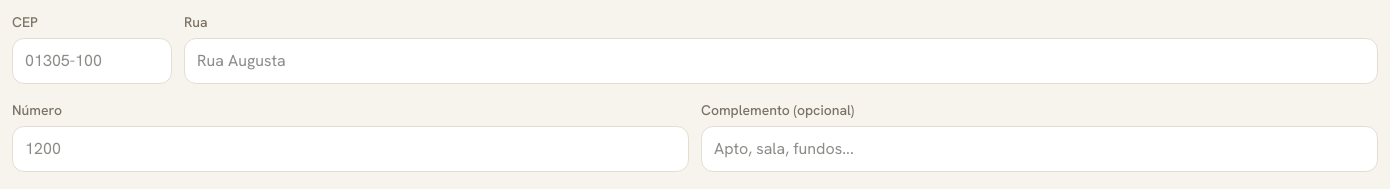
it: AddressFields › mostra a máscara do CEP conforme digita
Step 1. Type "01305100" into the field labelled "CEP" → (92, 61), box [12, 38, 172, 84]
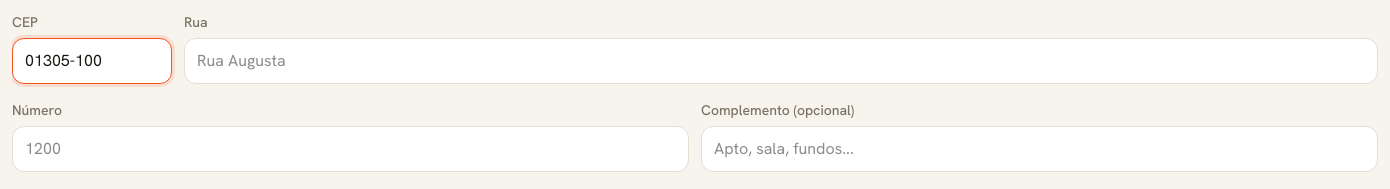
Result: the field labelled "CEP" holds "01305-100" at [12, 38, 172, 84]
